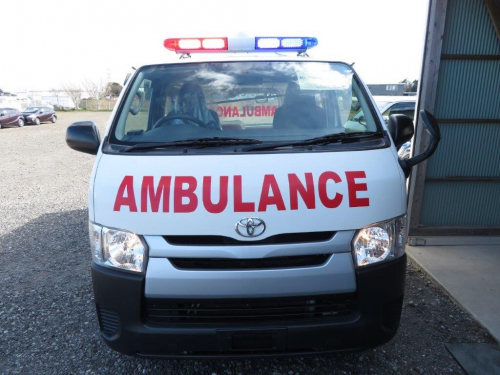Ambulance: (68, 26, 448, 359)
